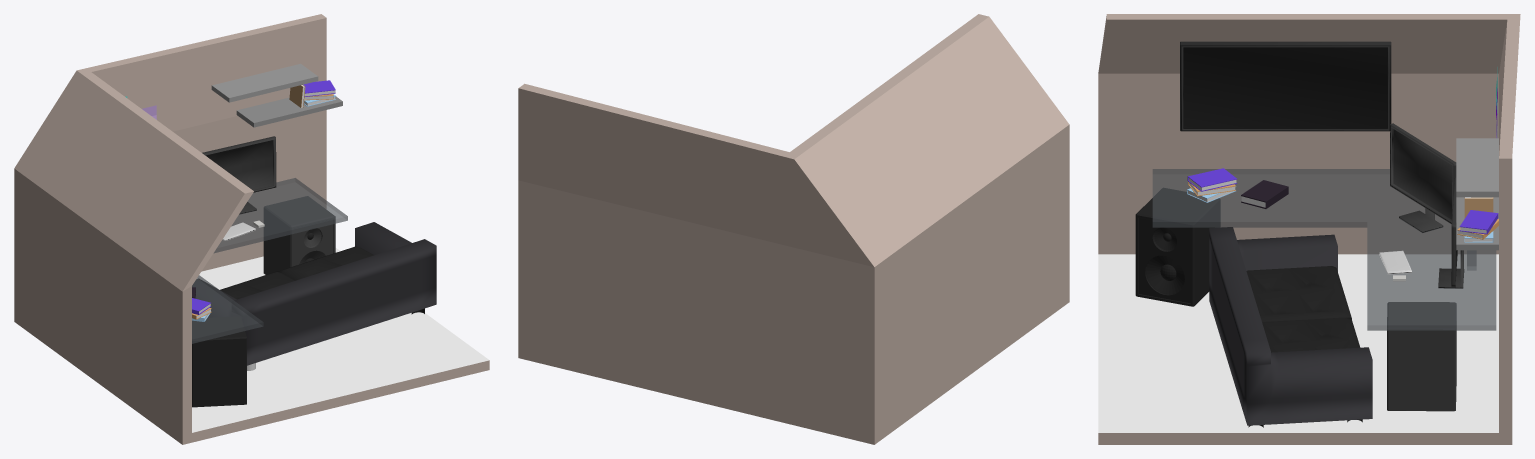
File: room.gltf
3 views of the same model, side by side, from view 1: azimuth 30°, elevation 25°; view 2: azimuth 150°, elevation 25°; view 3: azimuth 270°, elevation 25° (orthographic). The views are drawn at different scales.
Parts seen in each view (by area): view 1: Cube.003; view 2: Cube.003; view 3: Cube.003.
Boxes of the visible parts, x1,y1,x2,y2 form: Cube.003: (14, 14, 489, 444); Cube.003: (518, 14, 1069, 444); Cube.003: (1098, 14, 1520, 444).
Bounding box in the file's own units: 7.07 × 5 × 6.68.
